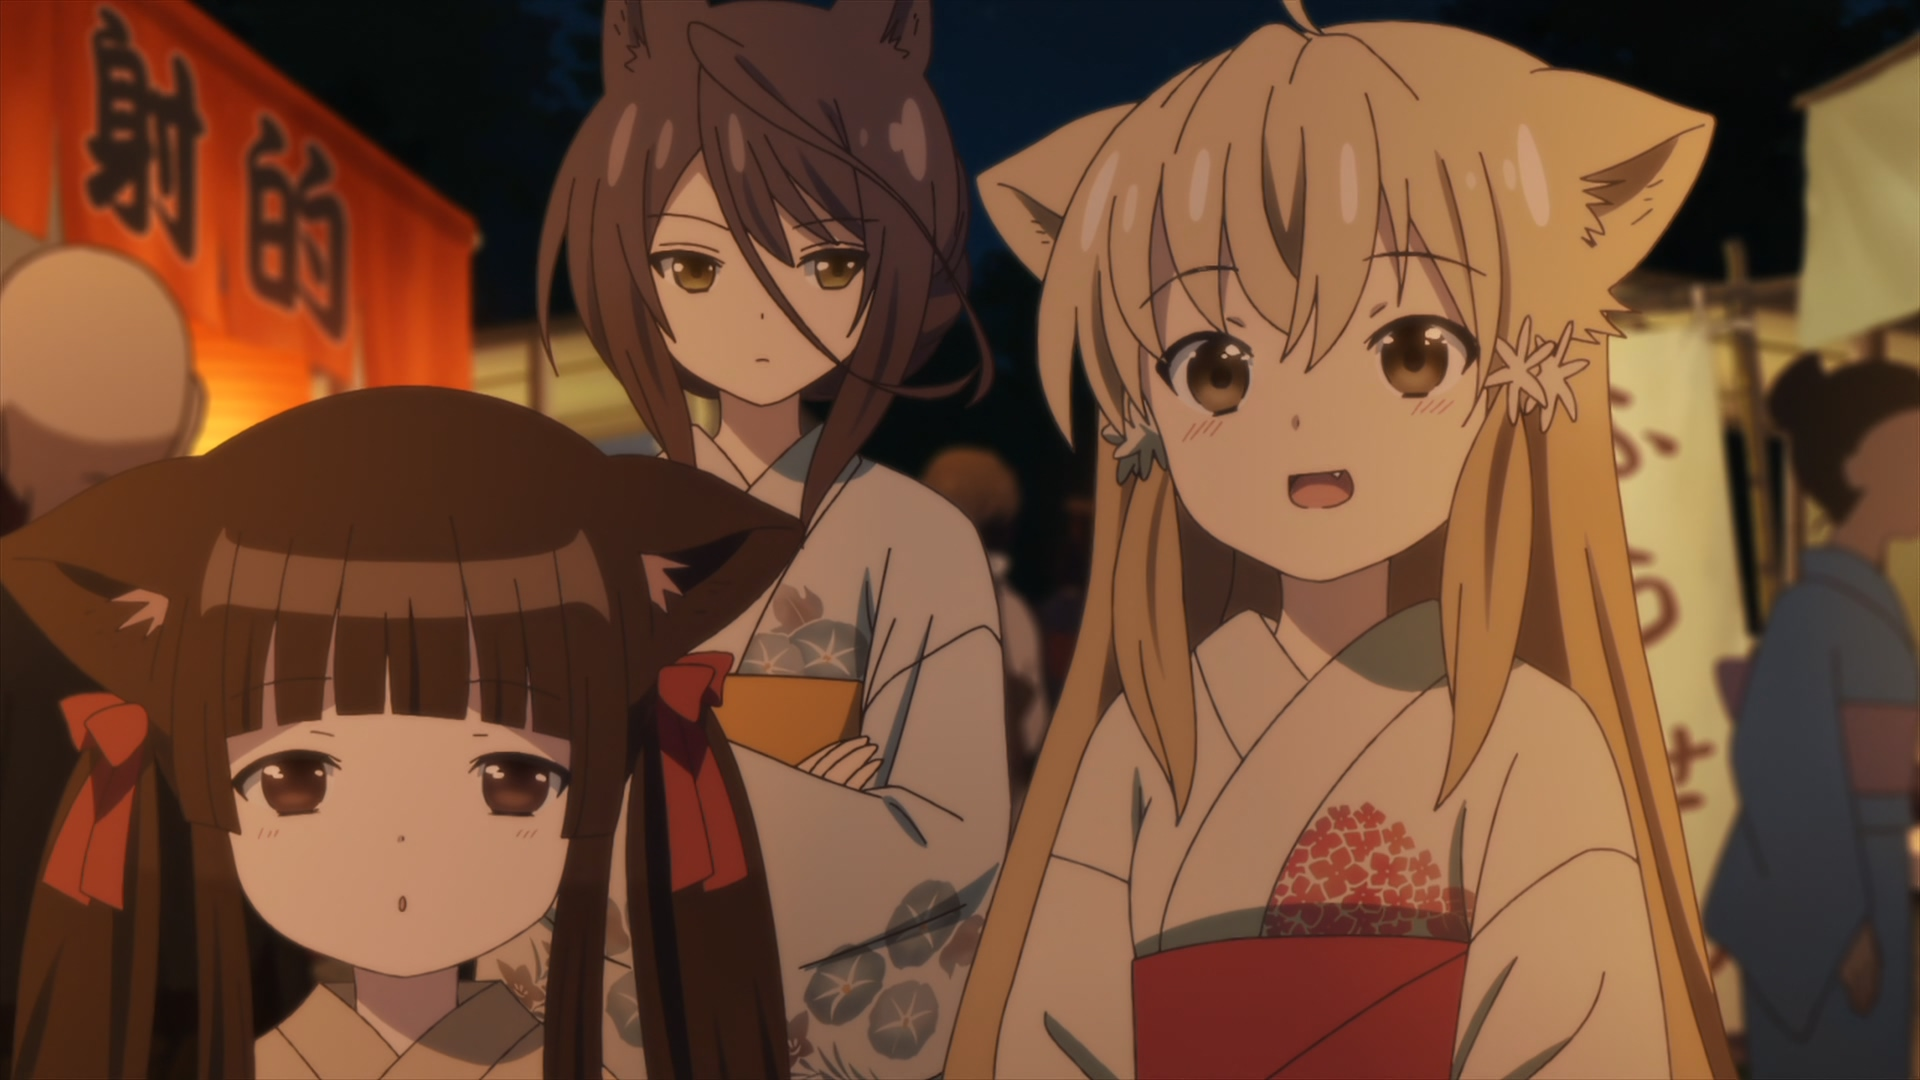其他: (1, 247, 208, 1080), (1701, 351, 1920, 1080)
柚: (949, 1, 1737, 1080)
樱: (1, 388, 806, 1080)
皋: (537, 1, 1014, 1080)
